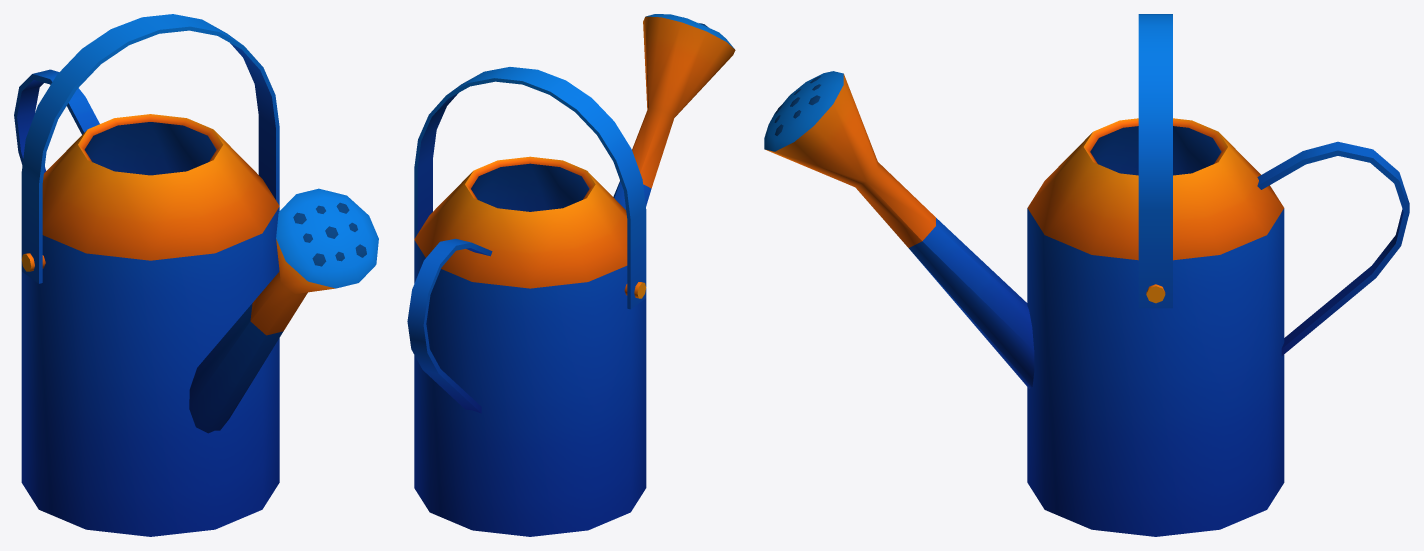
File: watering_can.glb
The picture shows the model from 3 angles, left to right: view 1: azimuth 30°, elevation 25°; view 2: azimuth 150°, elevation 25°; view 3: azimuth 270°, elevation 25°; orthographic projection. The views are drawn at different scales.
Parts seen in each view (by area): view 1: watering_can3; view 2: watering_can3; view 3: watering_can3.
Part boxes in pixels (<box>): watering_can3: <box>14,14,378,536</box>; watering_can3: <box>407,14,735,536</box>; watering_can3: <box>764,14,1409,536</box>.
Bounding box in the file's own units: 0.1591 × 0.2808 × 0.36.
1 material, 1 textured.
